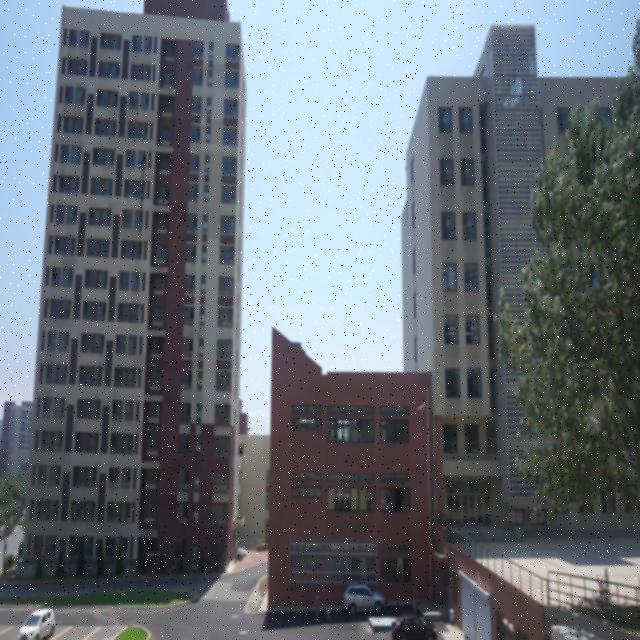UAV: (417, 402, 427, 412)
